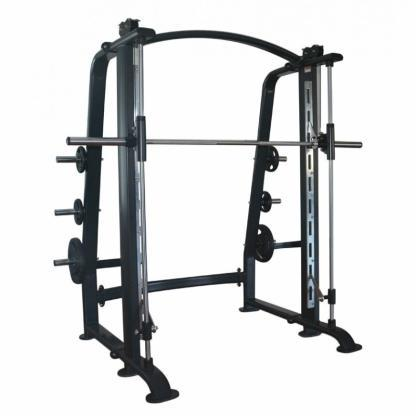smith machine: (55, 17, 363, 404)
